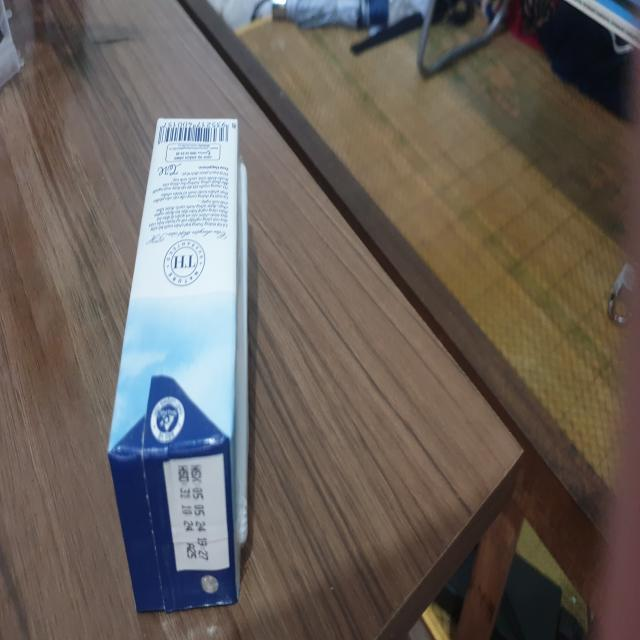TH: (107, 118, 251, 612)
